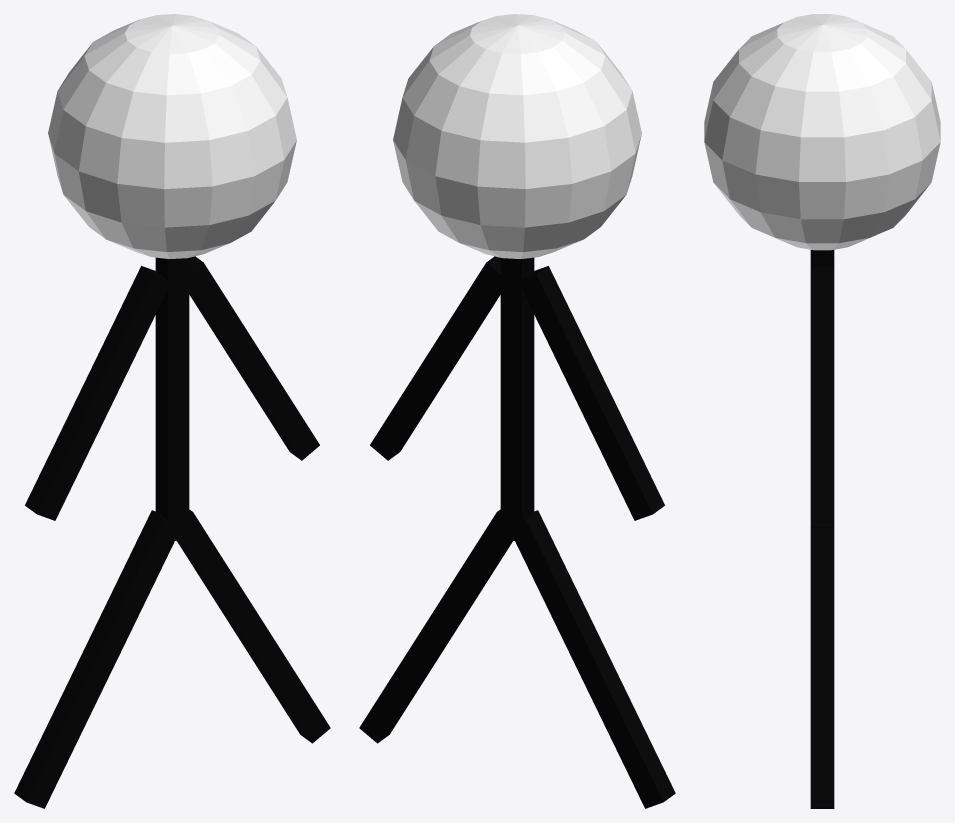
File: stickman.fbx
The picture shows the model from 3 angles, left to right: view 1: azimuth 30°, elevation 25°; view 2: azimuth 150°, elevation 25°; view 3: azimuth 270°, elevation 25°; orthographic projection. The views are drawn at different scales.
Visible parts, largest first — view 1: sphere, cube_4, cube_2, cube, cube_3, cube_1; view 2: sphere, cube_4, cube_2, cube, cube_3, cube_1; view 3: sphere, cube_3, cube_1.
Part boxes in pixels (x1,y1,x2,y2): sphere: [48, 14, 296, 258]; cube_4: [14, 510, 181, 808]; cube_2: [25, 266, 171, 520]; cube: [155, 257, 189, 542]; cube_3: [177, 509, 330, 743]; cube_1: [189, 256, 319, 460]; sphere: [393, 14, 641, 258]; cube_4: [508, 510, 675, 808]; cube_2: [518, 266, 664, 520]; cube: [500, 257, 534, 542]; cube_3: [359, 509, 512, 743]; cube_1: [370, 256, 500, 460]; sphere: [704, 14, 940, 250]; cube_3: [810, 528, 834, 808]; cube_1: [810, 267, 834, 528].
Bounding box in the file's own units: 89.79 × 210 × 62.5.
1 material, 1 textured.
